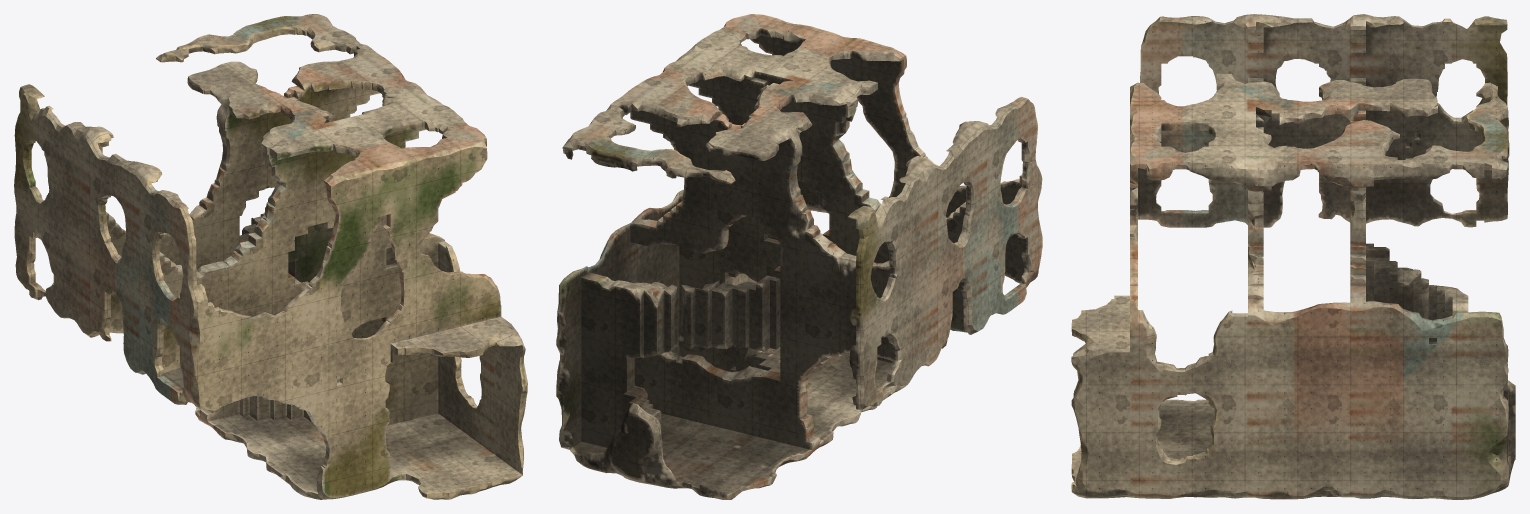
Rendered from Tower_Block_abandoned.glb.
3 renders of one model, left to right at view 1: azimuth 30°, elevation 25°; view 2: azimuth 150°, elevation 25°; view 3: azimuth 270°, elevation 25°, orthographic. The views are drawn at different scales.
Visible parts, largest first — view 1: TowerBlock; view 2: TowerBlock; view 3: TowerBlock.
Part boxes in pixels (x1,y1,x2,y2): TowerBlock: (14, 14, 527, 499); TowerBlock: (556, 14, 1042, 499); TowerBlock: (1071, 14, 1515, 499).
Size of the model in its own units: 1.92 by 1.92 by 2.31.
Materials: 1 (1 with a texture image).
